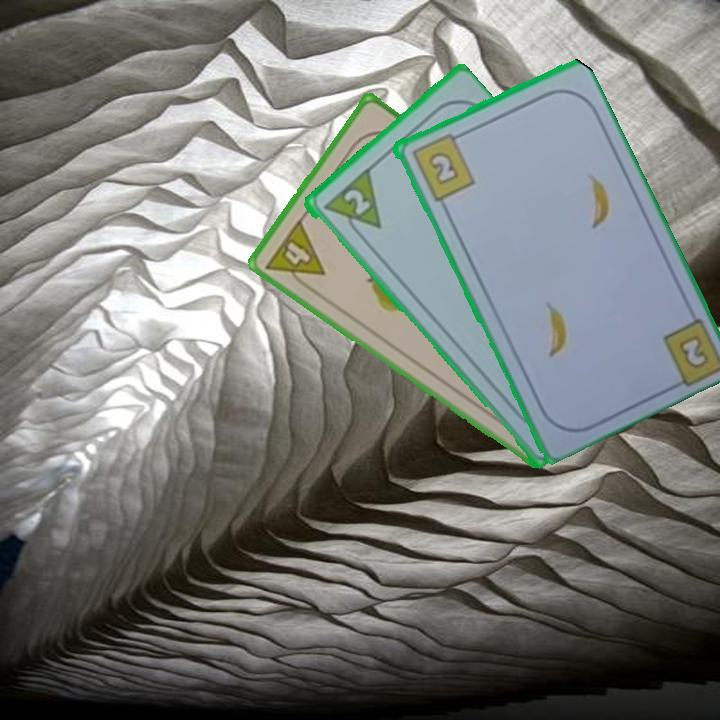2b: (407, 129, 477, 204), (678, 335, 708, 369)
2p: (318, 166, 384, 245)
4p: (261, 215, 328, 295)
